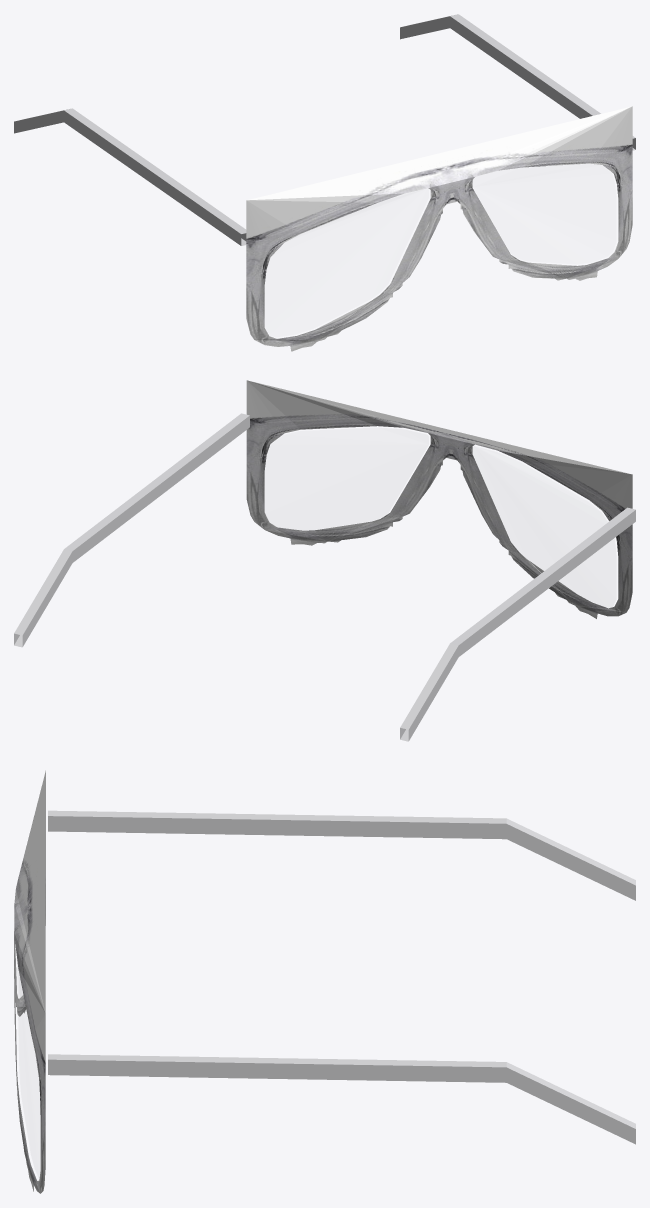
File: gothamstyle-182_crystal.glb
The picture shows the model from 3 angles, top to bottom: view 1: azimuth 30°, elevation 25°; view 2: azimuth 150°, elevation 25°; view 3: azimuth 270°, elevation 25°; orthographic projection. The views are drawn at different scales.
Parts seen in each view (by area): view 1: frame_front, temple_viewer_left, temple_viewer_right; view 2: frame_front, temple_viewer_left, temple_viewer_right; view 3: temple_viewer_right, temple_viewer_left, frame_front.
Boxes of the visible parts, left/top/right/bottom form: frame_front: left=246, top=106, right=632, bottom=351; temple_viewer_left: left=14, top=108, right=246, bottom=245; temple_viewer_right: left=400, top=14, right=635, bottom=150; frame_front: left=246, top=380, right=632, bottom=618; temple_viewer_left: left=400, top=507, right=635, bottom=741; temple_viewer_right: left=14, top=413, right=249, bottom=647; temple_viewer_right: left=48, top=1054, right=635, bottom=1144; temple_viewer_left: left=48, top=810, right=635, bottom=900; frame_front: left=14, top=770, right=45, bottom=1193.
Bounding box in the file's own units: 0.1383 × 0.0529 × 0.146.
Materials: 3 (2 with a texture image).
